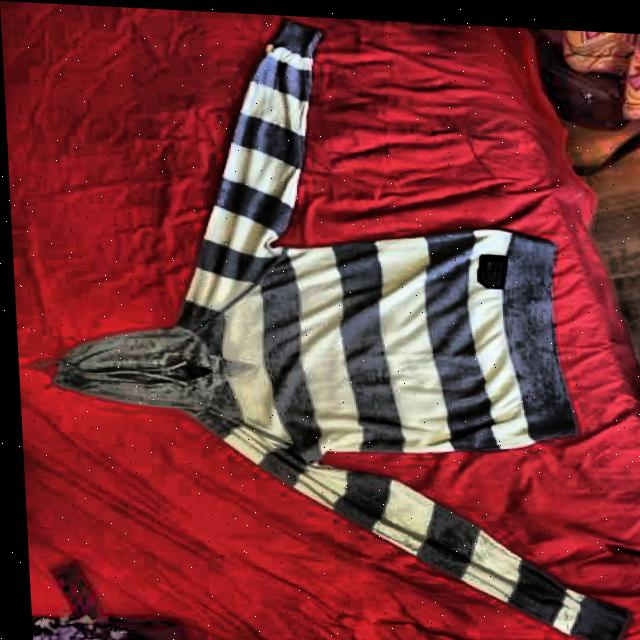clothes: (28, 4, 635, 640)
